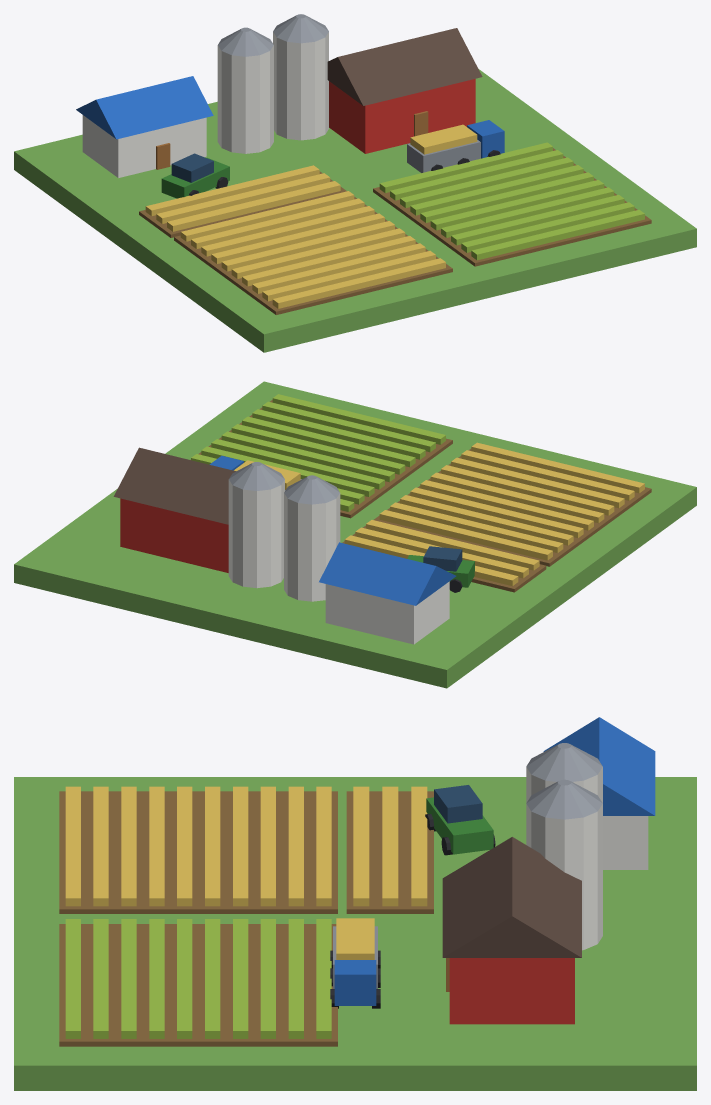
The model's file is agro_rent_3.glb.
3 views of the same model, one above another, from view 1: azimuth 30°, elevation 25°; view 2: azimuth 150°, elevation 25°; view 3: azimuth 270°, elevation 25° (orthographic). The views are drawn at different scales.
Parts seen in each view (by area): view 1: agro_rent_3; view 2: agro_rent_3; view 3: agro_rent_3.
Boxes of the visible parts, left/top/right/bottom form: agro_rent_3: left=14, top=14, right=696, bottom=352; agro_rent_3: left=14, top=381, right=696, bottom=688; agro_rent_3: left=14, top=717, right=696, bottom=1090.
Bounding box in the file's own units: 1.96 × 0.566 × 1.96.
